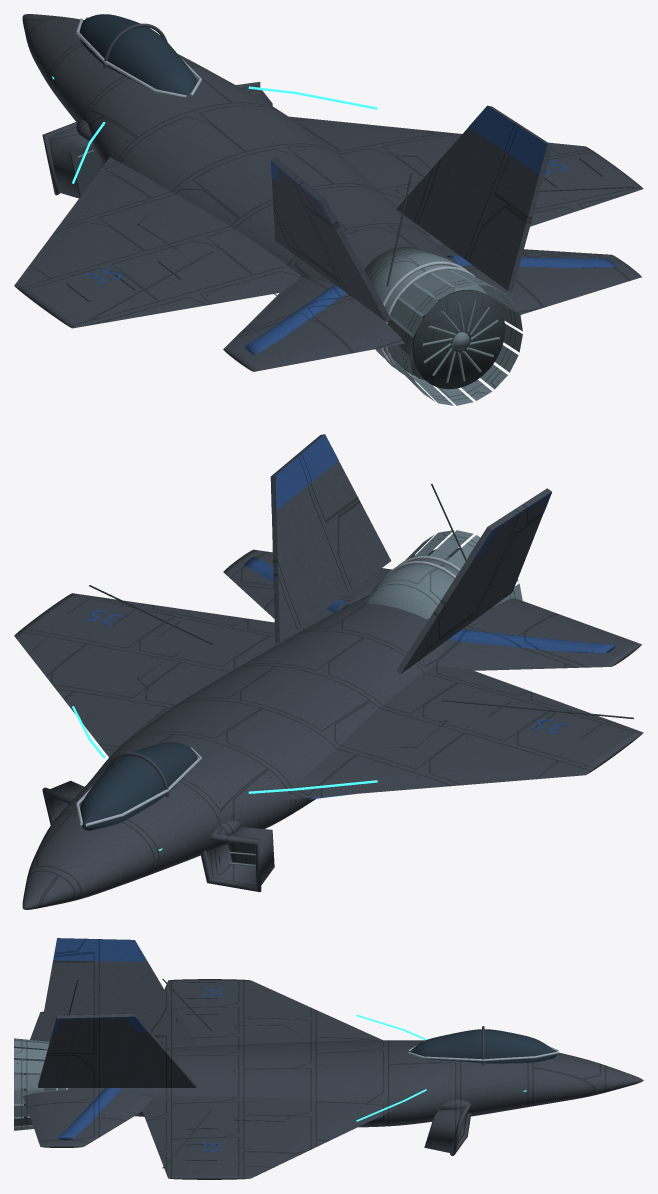
Rendered from astra-high.glb.
3 renders of one model, top to bottom at view 1: azimuth 30°, elevation 25°; view 2: azimuth 150°, elevation 25°; view 3: azimuth 270°, elevation 25°, orthographic. The views are drawn at different scales.
Visible parts, largest first — view 1: carbon-surfaces, titanium-surfaces, graphite-surfaces, cobalt-surfaces, Cockpit glass-surfaces, silver-surfaces, Cyan sensor optics-surfaces; view 2: carbon-surfaces, cobalt-surfaces, Cockpit glass-surfaces, titanium-surfaces, graphite-surfaces, silver-surfaces; view 3: carbon-surfaces, cobalt-surfaces, Cockpit glass-surfaces, titanium-surfaces, graphite-surfaces, silver-surfaces, Cyan sensor optics-surfaces.
Part boxes in pixels (box(x1,y1,x2,y2)): carbon-surfaces: box(14, 14, 643, 371); titanium-surfaces: box(77, 150, 522, 405); graphite-surfaces: box(66, 103, 633, 389); cobalt-surfaces: box(84, 105, 616, 354); Cockpit glass-surfaces: box(79, 14, 196, 95); silver-surfaces: box(76, 17, 482, 377); Cyan sensor optics-surfaces: box(52, 76, 377, 183); carbon-surfaces: box(14, 434, 643, 909); cobalt-surfaces: box(84, 434, 615, 799); Cockpit glass-surfaces: box(80, 742, 197, 830); titanium-surfaces: box(229, 530, 522, 866); graphite-surfaces: box(66, 484, 633, 867); silver-surfaces: box(76, 556, 460, 826); carbon-surfaces: box(23, 938, 643, 1179); cobalt-surfaces: box(53, 938, 382, 1151); Cockpit glass-surfaces: box(410, 1029, 557, 1063); titanium-surfaces: box(14, 1038, 432, 1130); graphite-surfaces: box(24, 979, 438, 1168); silver-surfaces: box(55, 1041, 558, 1090); Cyan sensor optics-surfaces: box(356, 1014, 526, 1121).
Size of the model in its own units: 6.24 by 2.19 by 8.38.
7 materials, 5 textured.
